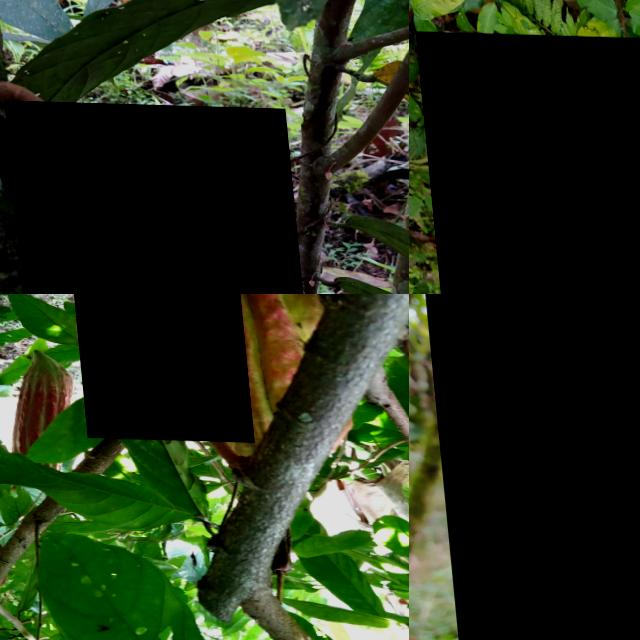Fitoftora: (418, 294, 640, 640), (414, 30, 640, 294), (56, 294, 246, 440)
Monilia: (0, 99, 304, 294)
Sana: (177, 294, 351, 480), (0, 353, 72, 489)
